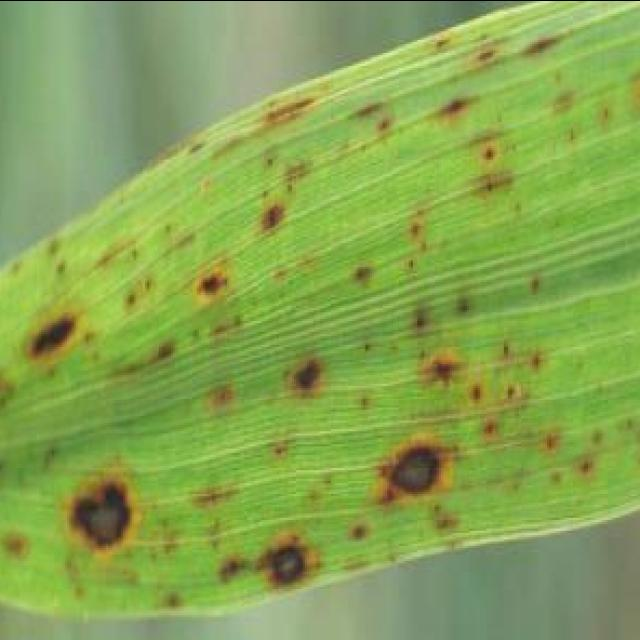Brown_Spot: (62, 460, 140, 571), (374, 434, 469, 512), (19, 302, 93, 368), (275, 348, 337, 411), (418, 342, 478, 398), (188, 474, 250, 524), (264, 538, 316, 596), (519, 20, 579, 70), (434, 84, 488, 134), (260, 90, 328, 128), (276, 153, 326, 194), (253, 196, 296, 242), (190, 266, 238, 305), (467, 169, 519, 203), (214, 552, 253, 590), (344, 514, 378, 554), (206, 381, 248, 413), (2, 528, 36, 566), (346, 98, 392, 126), (94, 242, 128, 276), (348, 260, 381, 294), (152, 333, 184, 368), (571, 450, 603, 484), (547, 460, 573, 500), (428, 30, 462, 60), (350, 387, 380, 419), (594, 100, 622, 132), (160, 590, 192, 618), (478, 413, 506, 445), (538, 428, 570, 456), (552, 88, 584, 116), (428, 512, 462, 538), (526, 348, 552, 381), (41, 234, 69, 264), (408, 309, 436, 337), (465, 381, 489, 413), (0, 370, 24, 402), (268, 437, 294, 465), (528, 272, 550, 304), (356, 335, 381, 363), (340, 558, 374, 578), (454, 296, 480, 322), (184, 134, 210, 160), (476, 48, 504, 72), (119, 290, 143, 316), (262, 149, 284, 177), (0, 460, 15, 500), (499, 338, 517, 370), (480, 145, 504, 169), (402, 251, 424, 277), (564, 123, 586, 149), (43, 361, 65, 387), (376, 115, 400, 138), (406, 218, 428, 242), (590, 428, 612, 452), (52, 260, 74, 284), (8, 255, 28, 281), (188, 322, 208, 348), (48, 441, 68, 467), (255, 184, 275, 208), (270, 266, 294, 286), (82, 328, 102, 351), (508, 198, 530, 218), (140, 272, 160, 294), (304, 486, 324, 508), (551, 212, 571, 234), (386, 547, 404, 571), (504, 384, 524, 404), (621, 416, 640, 437), (322, 469, 340, 491), (130, 244, 148, 266), (90, 350, 108, 370), (73, 586, 91, 606), (0, 396, 15, 418), (160, 222, 178, 240), (551, 71, 569, 89), (476, 30, 496, 46), (413, 203, 428, 223), (508, 140, 526, 156), (430, 499, 446, 517), (358, 143, 376, 158), (160, 519, 173, 532), (149, 500, 162, 512), (149, 552, 162, 564)
